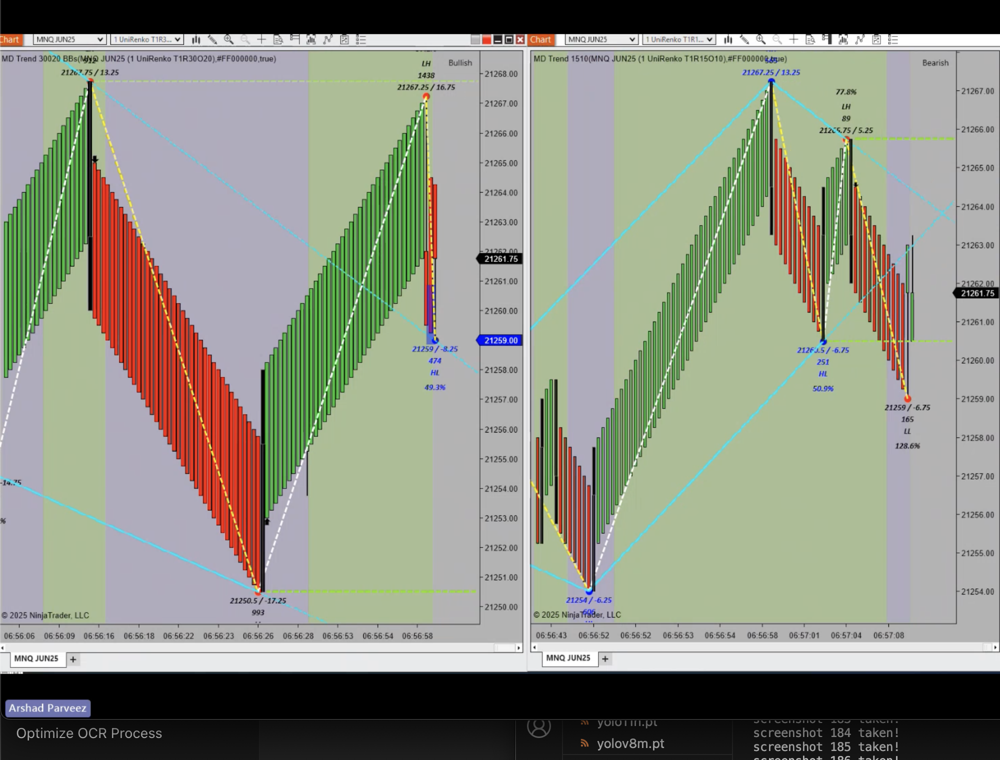HL: (424, 360, 448, 384), (814, 369, 837, 386)
LH: (835, 96, 864, 117), (414, 57, 440, 76)
LL: (897, 426, 920, 443)
